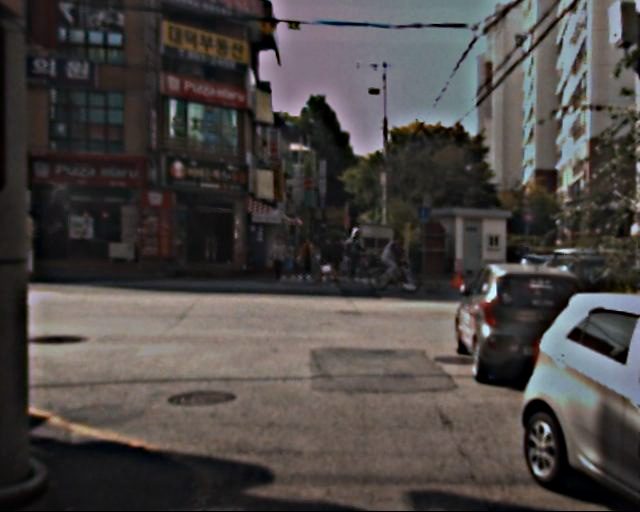person: (382, 232, 412, 279), (326, 233, 346, 282), (316, 234, 335, 281), (270, 237, 288, 282), (299, 236, 317, 281), (344, 236, 361, 278)
